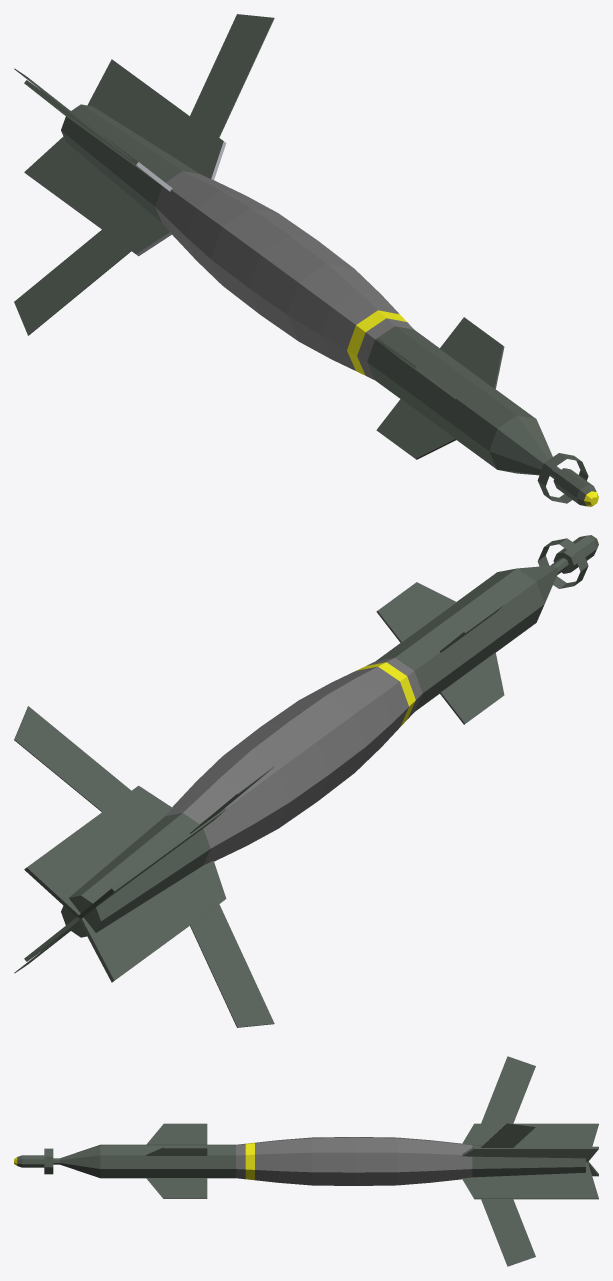
Rendered from GBU-12.glb.
The picture shows the model from 3 angles, top to bottom: view 1: azimuth 30°, elevation 25°; view 2: azimuth 150°, elevation 25°; view 3: azimuth 270°, elevation 25°; orthographic projection. The views are drawn at different scales.
Visible parts, largest first — view 1: Bomb, Wings; view 2: Bomb, Wings; view 3: Bomb, Wings.
Part boxes in pixels (x1,y1,x2,y2): Bomb: [24, 59, 598, 506]; Wings: [14, 14, 274, 335]; Bomb: [24, 535, 598, 982]; Wings: [14, 706, 274, 1027]; Bomb: [14, 1123, 598, 1199]; Wings: [481, 1056, 535, 1266].
Size of the model in its own units: 0.8839 by 0.8839 by 3.26.
Materials: 2 (2 with a texture image).
